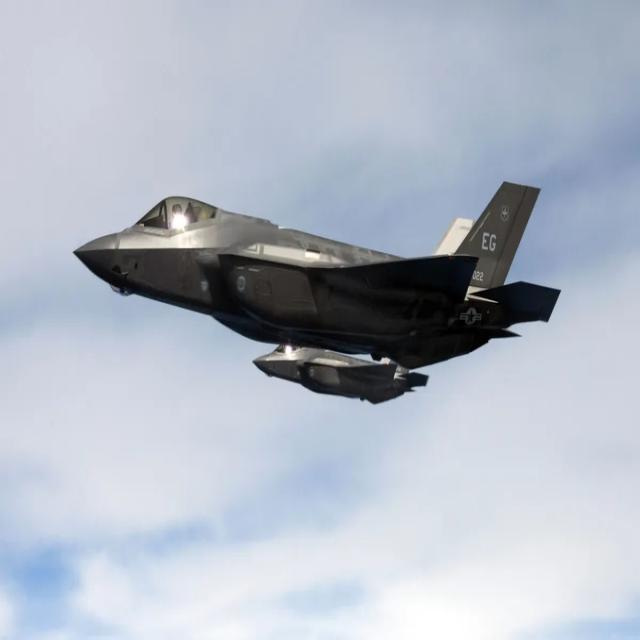MIL_Plane: (70, 179, 560, 370), (252, 343, 430, 406)
